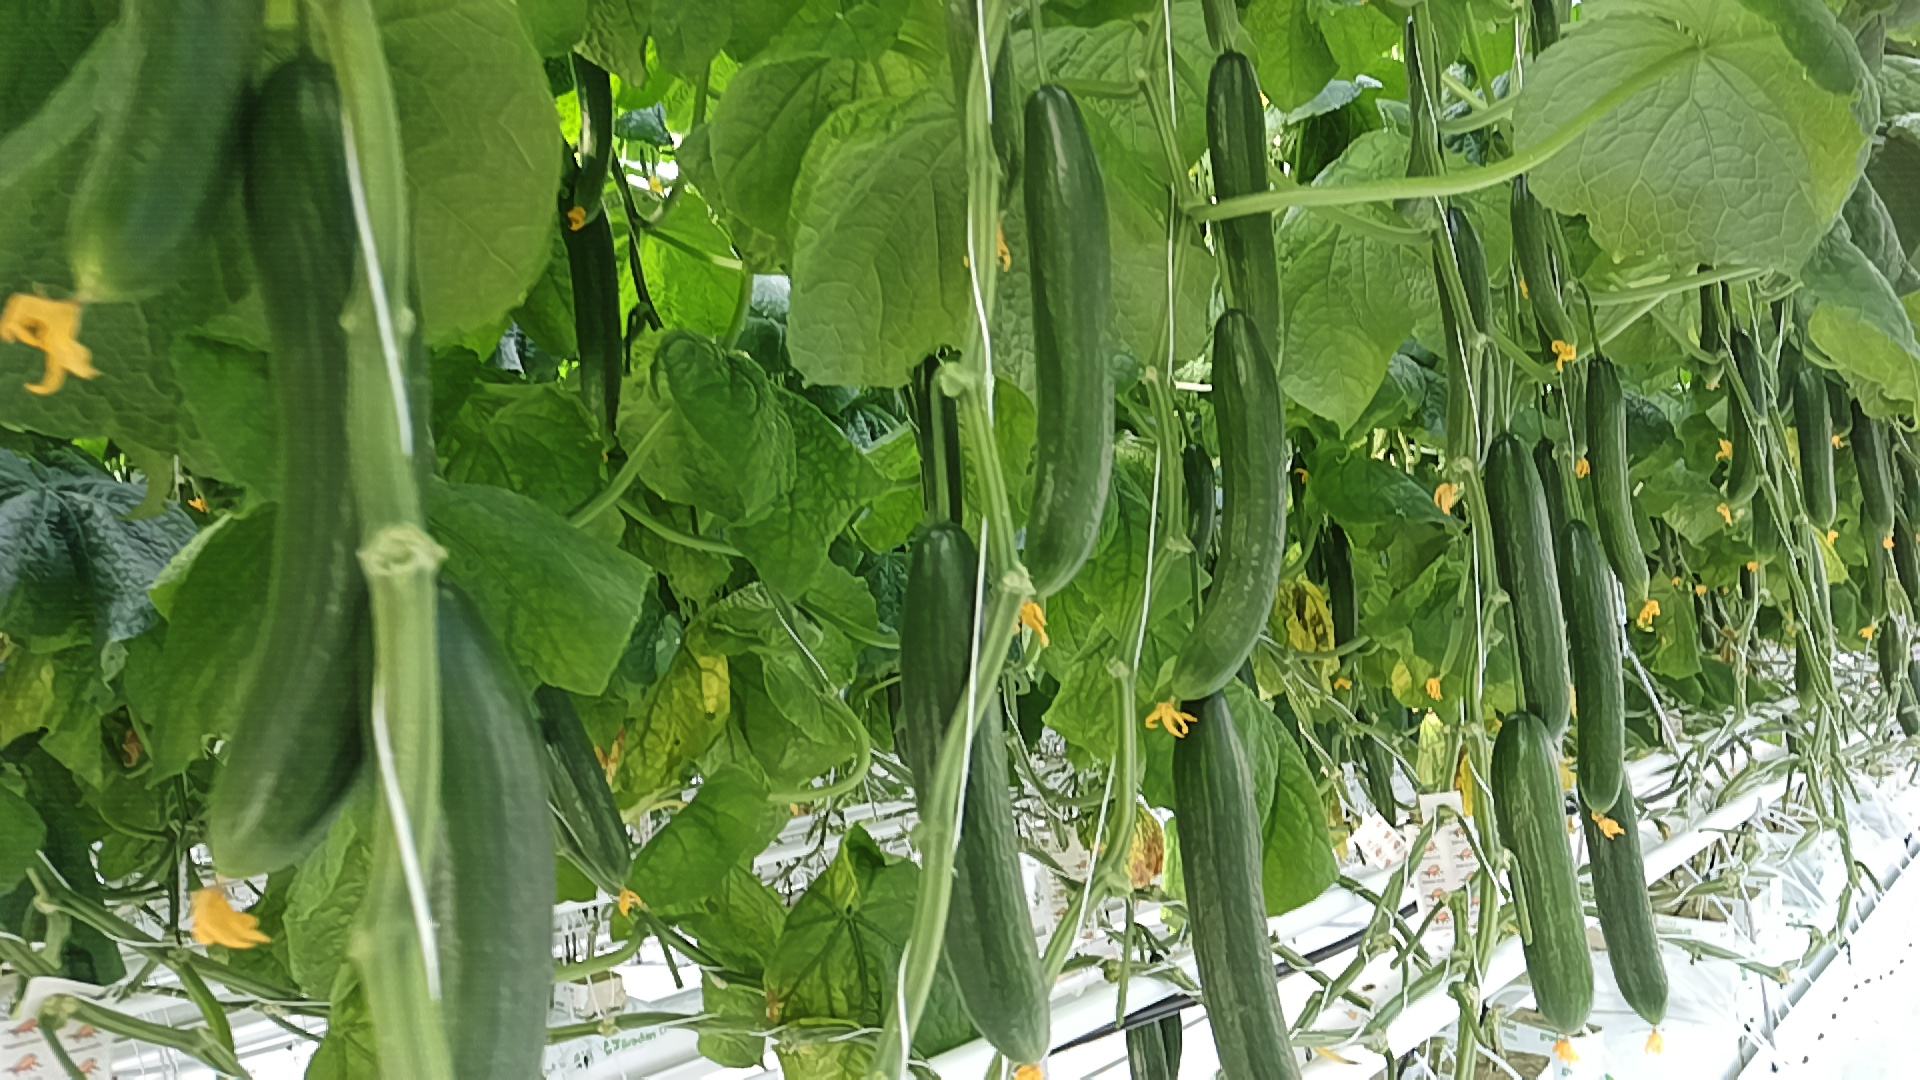gurka: (993, 75, 1124, 593), (1145, 297, 1299, 721), (1462, 696, 1615, 1047), (1470, 426, 1578, 740), (1559, 506, 1634, 828), (1503, 161, 1578, 371), (1779, 357, 1858, 543), (1720, 328, 1775, 518)
